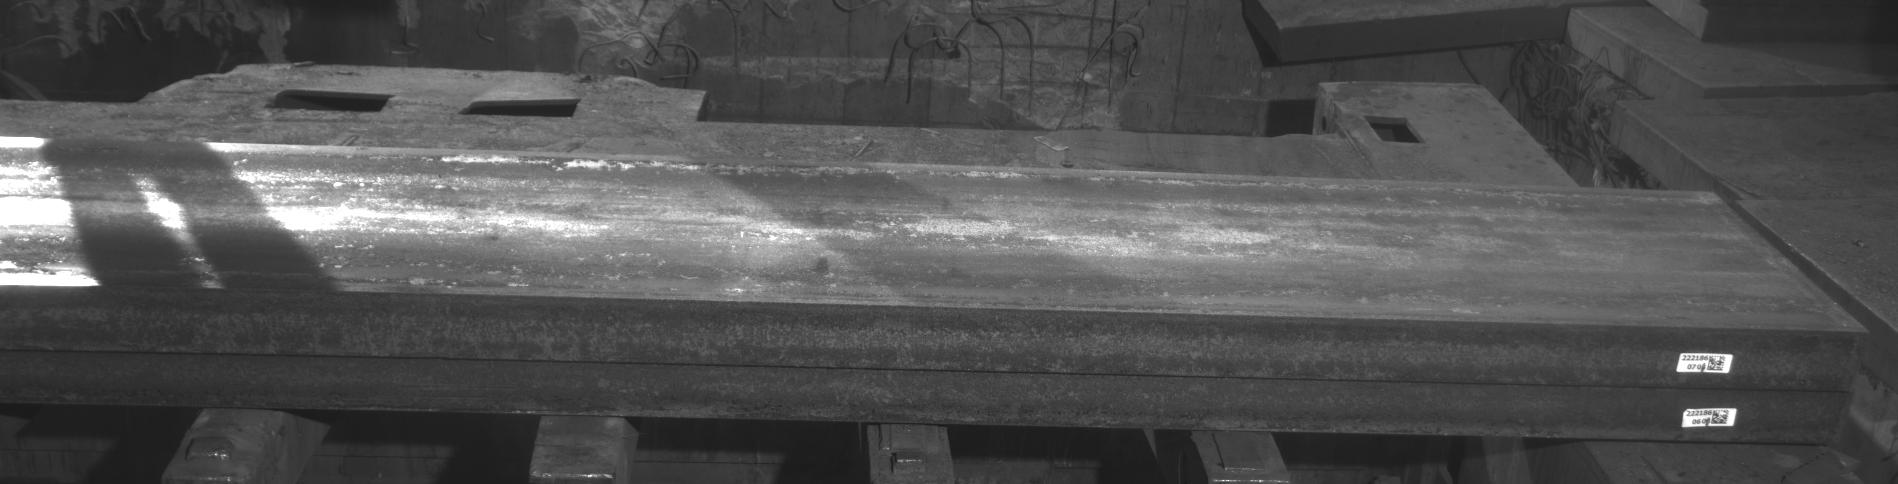data matrix: (1707, 355, 1727, 373), (1712, 410, 1730, 427)
